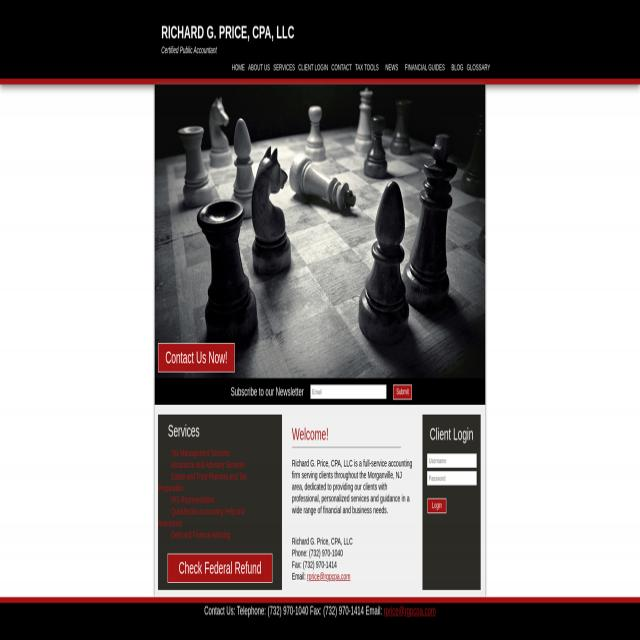button: (161, 16, 299, 49), (168, 553, 272, 583), (158, 343, 234, 373), (403, 56, 447, 79), (296, 56, 330, 79), (354, 56, 381, 79), (465, 56, 492, 79), (246, 56, 272, 79), (329, 56, 354, 79), (272, 56, 296, 79), (230, 56, 246, 79), (384, 56, 400, 79), (450, 56, 465, 79), (393, 385, 412, 400), (428, 499, 447, 513)
field: (310, 385, 386, 399), (427, 453, 477, 468), (427, 471, 477, 486)
